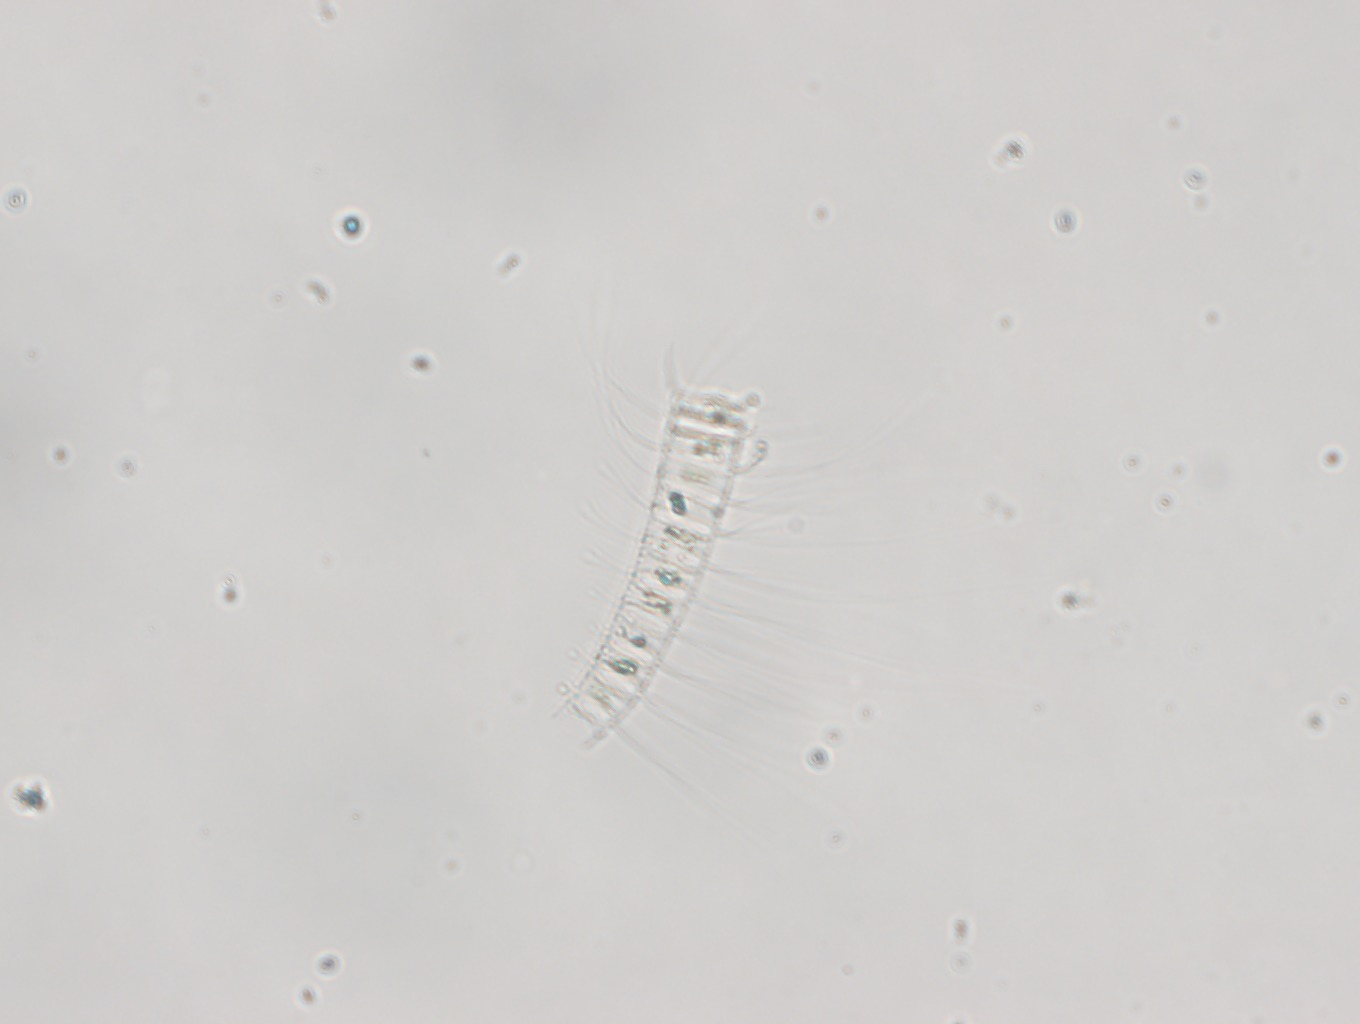chaetoceros: (544, 349, 848, 800)
